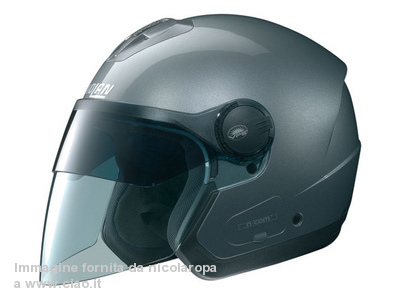helmet: (79, 25, 360, 250)
